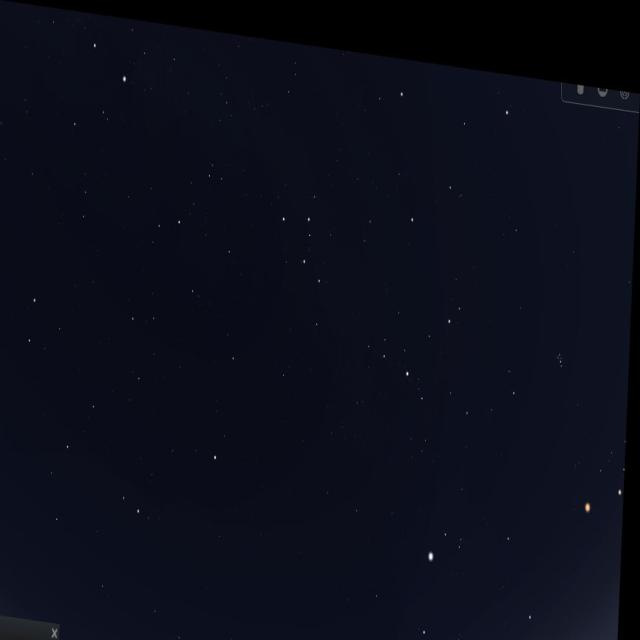pleiades: (551, 316, 577, 372)
